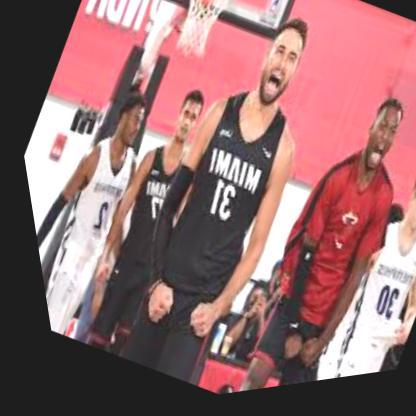rim: (179, 0, 242, 20)
